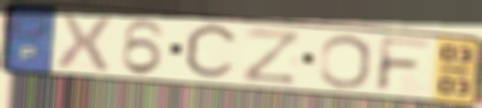6: (119, 18, 167, 77)
C: (181, 21, 242, 83)
F: (372, 35, 437, 95)
O: (317, 33, 373, 91)
X: (53, 11, 115, 73)
Z: (240, 25, 304, 86)
